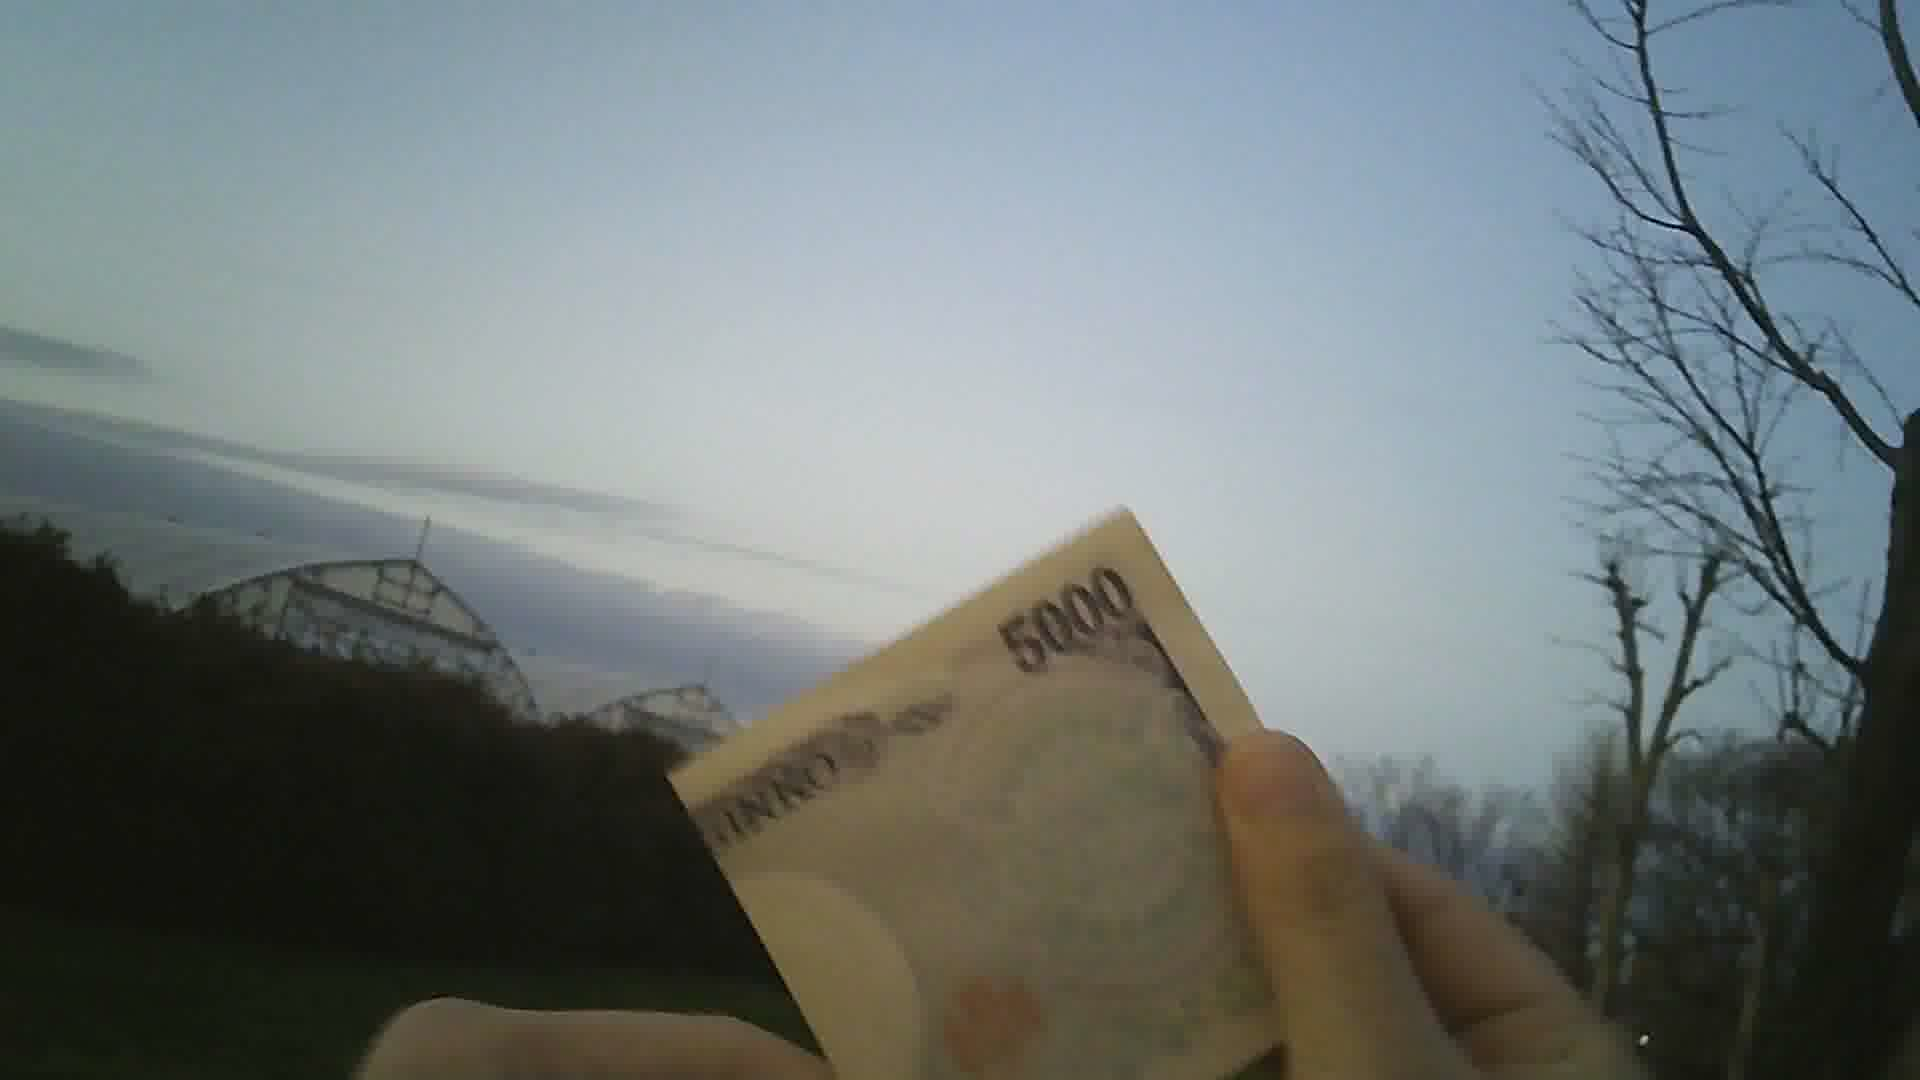5,000 Yen: (669, 473, 1400, 1079)
